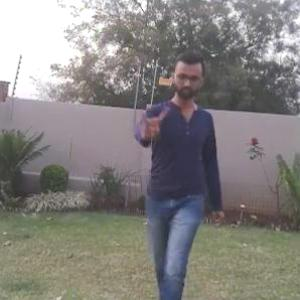takeoff-hand: (136, 102, 168, 143)
